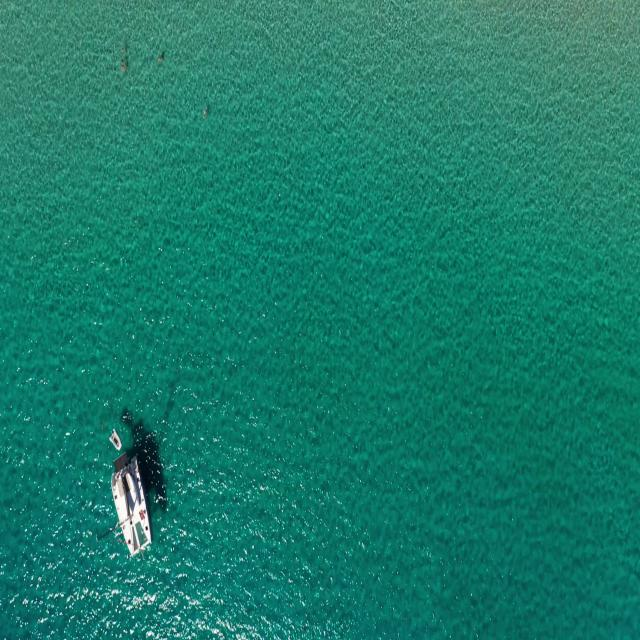ship: (118, 451, 145, 564)
